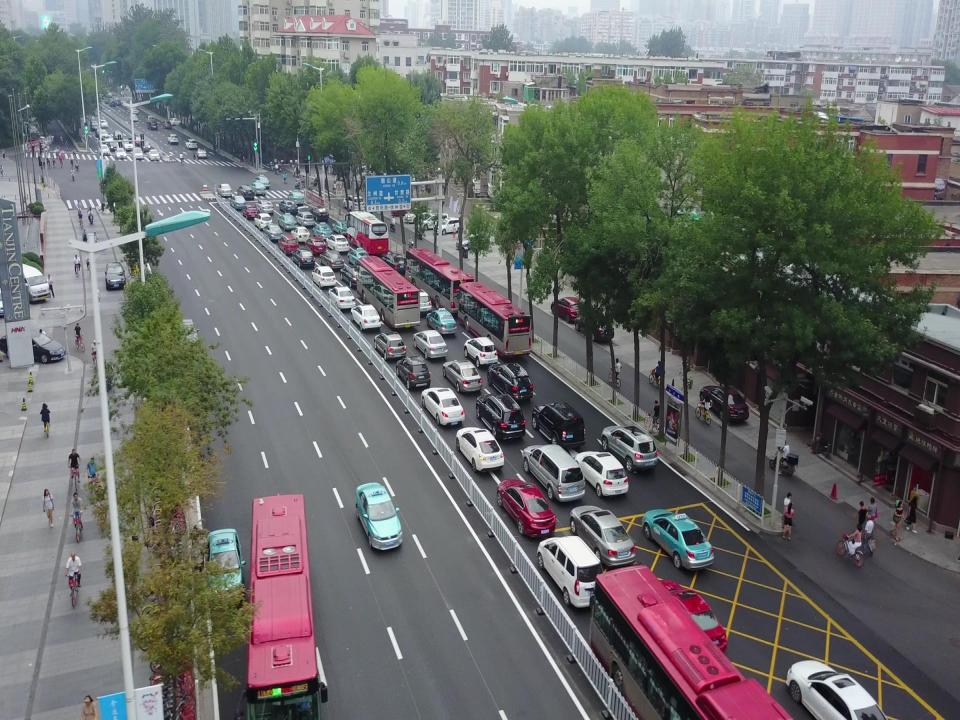bus: (589, 564, 794, 720), (236, 494, 328, 720), (457, 281, 531, 356), (356, 256, 420, 328), (404, 247, 474, 312), (344, 211, 388, 254)
car: (785, 660, 891, 720), (659, 580, 728, 655), (536, 535, 604, 608), (642, 509, 714, 569), (569, 506, 635, 568), (522, 444, 586, 502), (496, 479, 556, 537), (354, 482, 403, 551), (206, 529, 246, 608), (600, 425, 658, 472), (574, 451, 628, 498), (475, 393, 526, 440), (0, 328, 65, 364), (532, 402, 586, 445), (456, 427, 504, 472), (699, 385, 749, 422), (487, 362, 533, 400), (6, 263, 50, 302), (421, 387, 465, 426), (442, 359, 482, 393), (396, 355, 431, 390), (574, 312, 614, 341), (413, 330, 448, 360), (464, 337, 497, 367), (550, 296, 586, 323), (374, 332, 406, 362), (350, 304, 380, 331), (426, 308, 456, 334), (176, 319, 199, 351), (328, 286, 356, 309), (104, 262, 126, 291), (890, 500, 904, 542), (408, 288, 432, 312), (312, 266, 336, 289), (340, 266, 366, 287), (347, 247, 371, 268), (381, 253, 409, 271), (291, 248, 315, 268), (278, 235, 300, 256), (906, 496, 918, 534), (319, 251, 344, 269), (326, 234, 350, 252), (304, 237, 326, 255), (277, 212, 297, 231), (290, 226, 311, 244), (342, 195, 364, 211), (254, 213, 274, 230), (312, 222, 332, 239), (331, 218, 352, 234), (309, 205, 329, 221), (263, 224, 283, 239), (287, 189, 304, 206), (255, 198, 273, 214), (296, 212, 314, 228), (236, 184, 255, 199), (278, 200, 298, 214), (230, 195, 246, 210), (242, 204, 258, 219), (253, 175, 270, 189), (216, 184, 232, 198), (250, 182, 266, 196)
